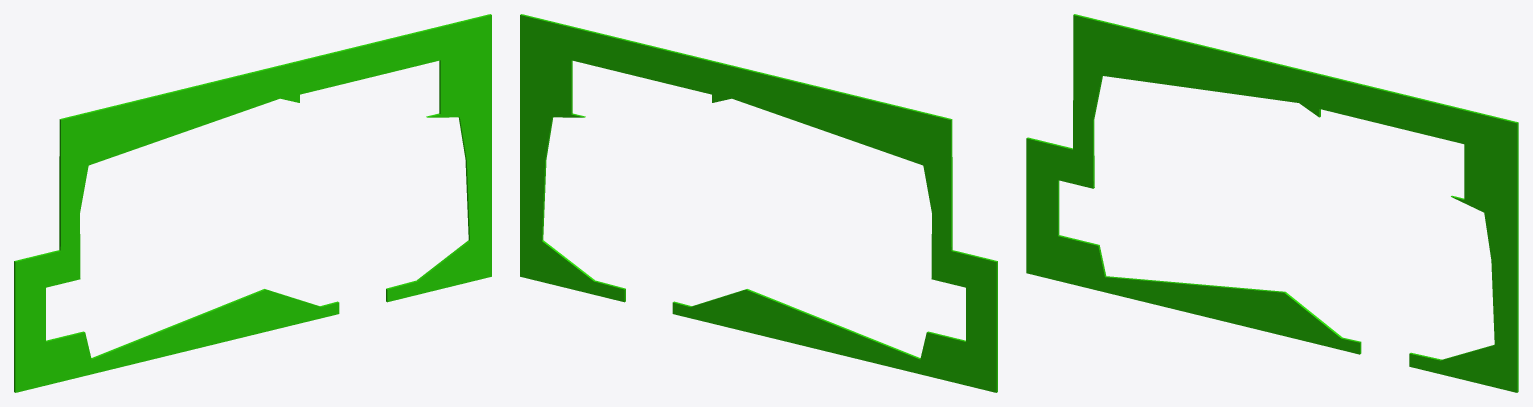
The model's file is BH03B_Wall_01_Break_Collider.fbx.
3 renders of one model, left to right at view 1: azimuth 30°, elevation 25°; view 2: azimuth 150°, elevation 25°; view 3: azimuth 330°, elevation 25°, orthographic. The views are drawn at different scales.
Parts seen in each view (by area): view 1: BH03B_Wall_01_Break_Collider; view 2: BH03B_Wall_01_Break_Collider; view 3: BH03B_Wall_01_Break_Collider.
Boxes of the visible parts, left/top/right/bottom form: BH03B_Wall_01_Break_Collider: left=14, top=14, right=491, bottom=392; BH03B_Wall_01_Break_Collider: left=520, top=14, right=997, bottom=392; BH03B_Wall_01_Break_Collider: left=1026, top=14, right=1518, bottom=392.
Bounding box in the file's own units: 1143 × 600 × 5.61.
